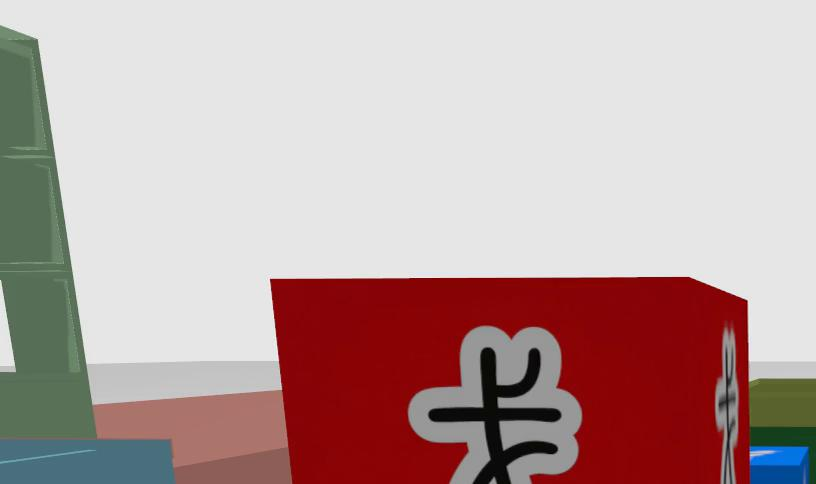KFS_FAKE: (270, 277, 755, 484), (409, 326, 581, 484), (714, 326, 741, 484)
